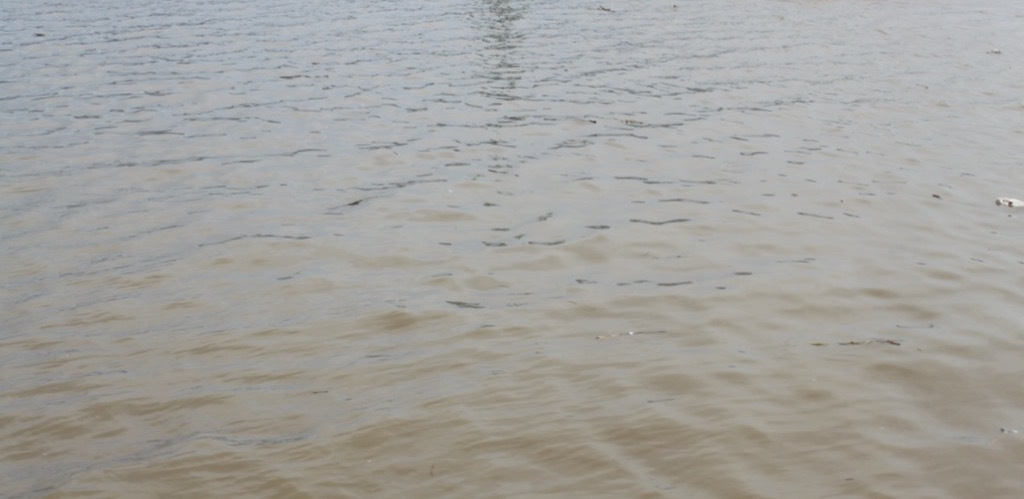organic: (317, 180, 401, 216), (801, 328, 909, 353), (578, 323, 677, 346), (888, 317, 940, 334), (973, 38, 1012, 60), (921, 183, 949, 208), (991, 422, 1024, 440), (587, 1, 625, 16), (660, 1, 690, 14)
plastic: (984, 182, 1024, 226)
structure: (466, 1, 543, 278)
